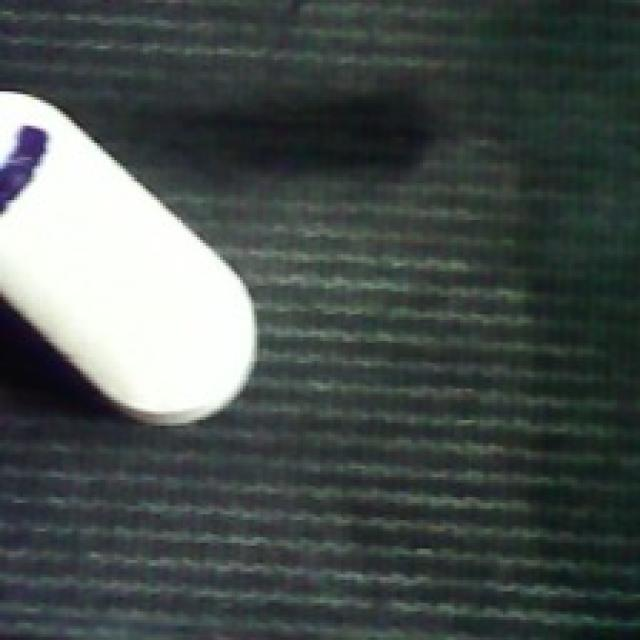defected: (0, 85, 266, 431)
